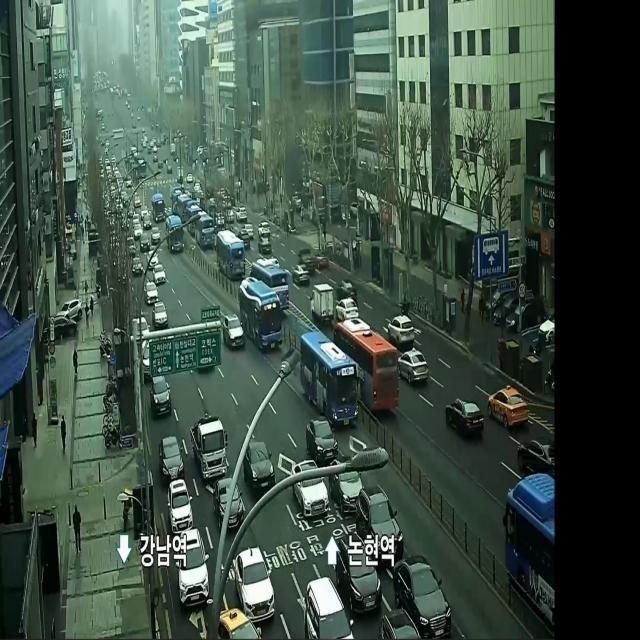car: (296, 326, 362, 432), (237, 275, 284, 357)
motorcycle: (392, 550, 454, 637), (229, 543, 281, 626), (171, 525, 215, 615), (287, 453, 331, 521), (487, 370, 532, 433), (442, 393, 489, 450), (240, 436, 276, 496), (303, 414, 340, 466), (164, 480, 198, 536), (155, 430, 187, 487), (398, 347, 432, 388), (386, 308, 418, 348), (148, 374, 174, 418), (222, 308, 246, 355)
truck: (186, 410, 232, 486), (308, 280, 336, 325)
